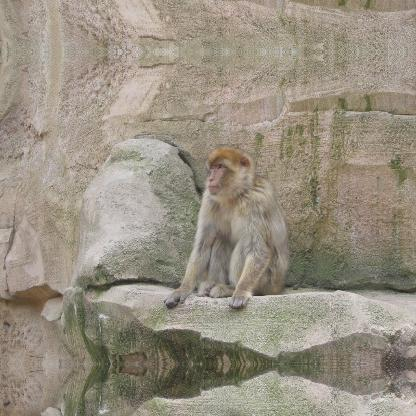Monkey: (158, 143, 288, 315)
